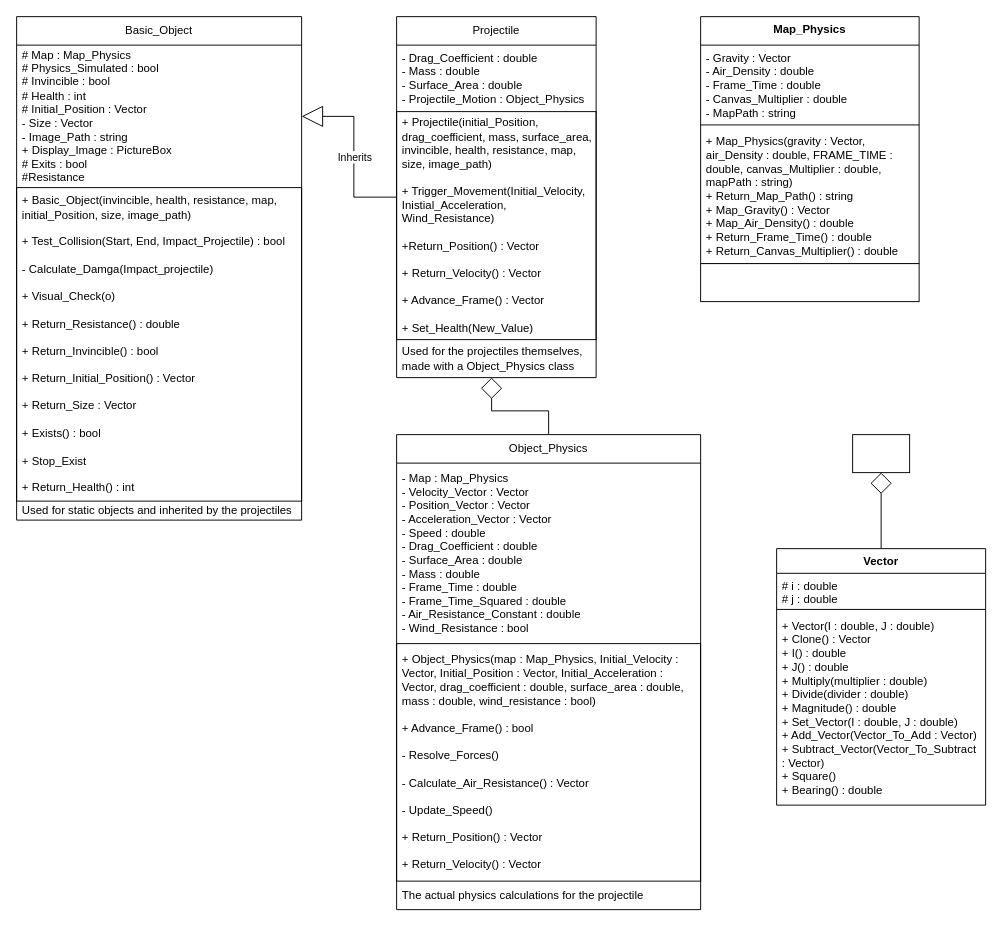
This 1002x926 diagram has some shape labels left out. Each missing label, with the centre of its shape:
Stores information needed by the projectiles for physics calculations: point (809, 282)
Various: point (881, 453)
